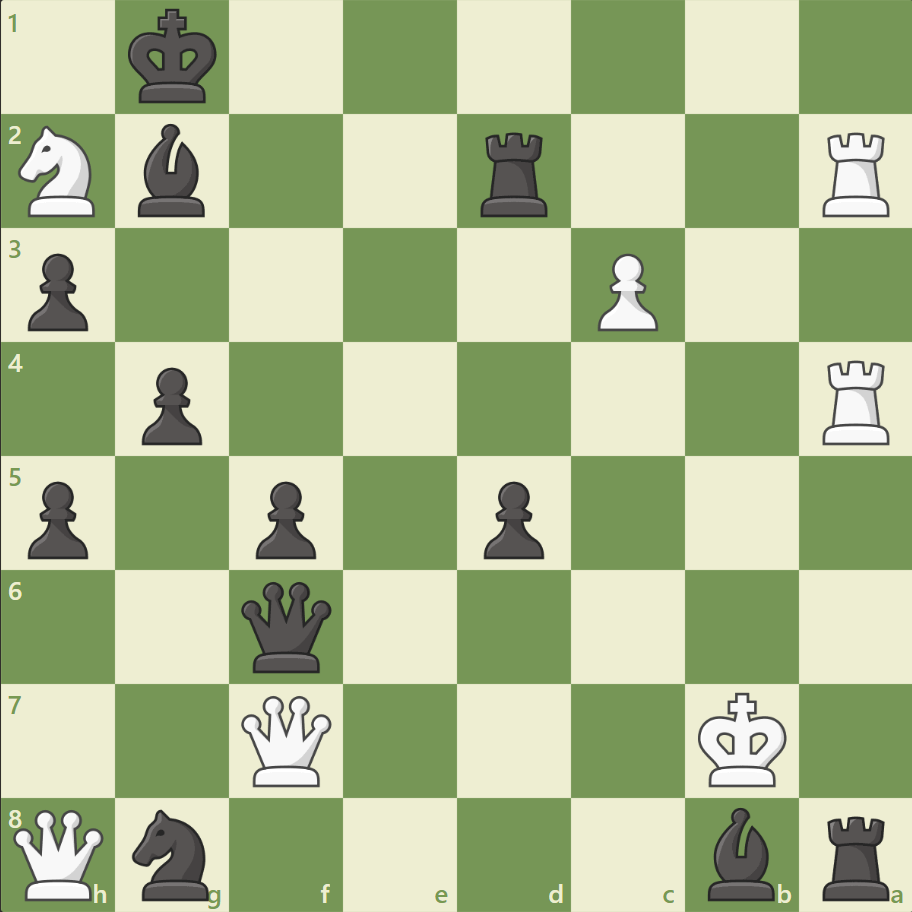K: (692, 685, 792, 793)
N: (11, 121, 108, 223)
P: (588, 246, 662, 337)
Q: (10, 804, 109, 903), (237, 690, 336, 789)
R: (814, 352, 897, 449), (814, 125, 897, 222)
b: (698, 801, 782, 904), (131, 120, 215, 222)
k: (124, 4, 224, 112)
n: (124, 802, 222, 904)
p: (474, 473, 549, 564), (247, 473, 322, 564), (20, 473, 95, 564), (133, 359, 208, 450), (20, 246, 95, 337)
q: (237, 576, 336, 676)
r: (814, 806, 897, 904), (473, 125, 556, 222)
